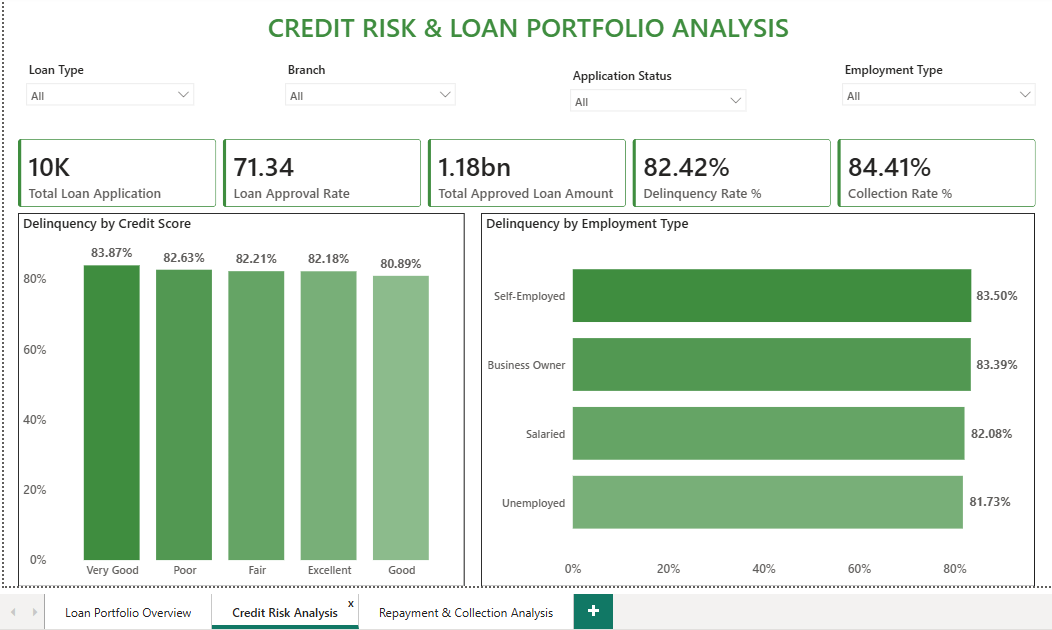

What the dashboard file says about the page in this screenshot:
{"tool":"powerbi","page":{"name":"Credit Risk Analysis","canvas":[1280,720],"ordinal":1},"visuals":[{"type":"textbox","box":[0,9.3,1280,64],"z":0},{"type":"slicer","fields":{"Values":["Cleaned Loan Application.Loan_Type"]},"box":[17.1,74.4,224.5,83],"z":1000},{"type":"slicer","fields":{"Values":["Cleaned Loan Application.Branch"]},"box":[333.3,74.7,228,82.7],"z":2000},{"type":"slicer","fields":{"Values":["Cleaned Loan Application.Application_Status"]},"box":[681.3,81.3,234.7,76],"z":3000},{"type":"slicer","fields":{"Values":["Cleaned Loan Application.Employment_Type"]},"box":[1013.3,74.7,256,82.7],"z":4000},{"type":"cardVisual","fields":{"Data":["Cleaned Loan Application.Total Loan Application","Cleaned Loan Application.Loan Approval Rate","Cleaned Loan Application.Total Approved Loan Amount","Cleaned Loan Repayment.Delinquency Rate %","Cleaned Loan Repayment.Collection Rate %"]},"box":[0,157.4,1280.1,117.2],"z":5000},{"type":"columnChart","title":"Delinquency by Credit Score","fields":{"Category":["Cleaned Loan Application.Credit Score Band"],"Y":["Cleaned Loan Repayment.Delinquency Rate %"]},"box":[16.5,264.3,545,455.6],"z":5001},{"type":"barChart","title":"Delinquency by Employment Type","fields":{"Category":["Cleaned Loan Application.Employment_Type"],"Y":["Cleaned Loan Repayment.Delinquency Rate %"]},"box":[582.2,264.3,675.8,455.6],"z":5002}]}

Visuals, with their boxes on the page's 1280x720 design canvas (x1, y1, x2, y2). These are canvas units, not pixel positions in the 1052x630 screenshot, which may show the page scaled, cropped or inside an application window:
textbox: bbox(0, 9, 1280, 73)
slicer - Cleaned Loan Application.Loan_Type: bbox(17, 74, 242, 157)
slicer - Cleaned Loan Application.Branch: bbox(333, 75, 561, 157)
slicer - Cleaned Loan Application.Application_Status: bbox(681, 81, 916, 157)
slicer - Cleaned Loan Application.Employment_Type: bbox(1013, 75, 1269, 157)
cardVisual - Cleaned Loan Application.Total Loan Application x Cleaned Loan Application.Loan Approval Rate: bbox(0, 157, 1280, 275)
"Delinquency by Credit Score" columnChart: bbox(16, 264, 562, 720)
"Delinquency by Employment Type" barChart: bbox(582, 264, 1258, 720)
